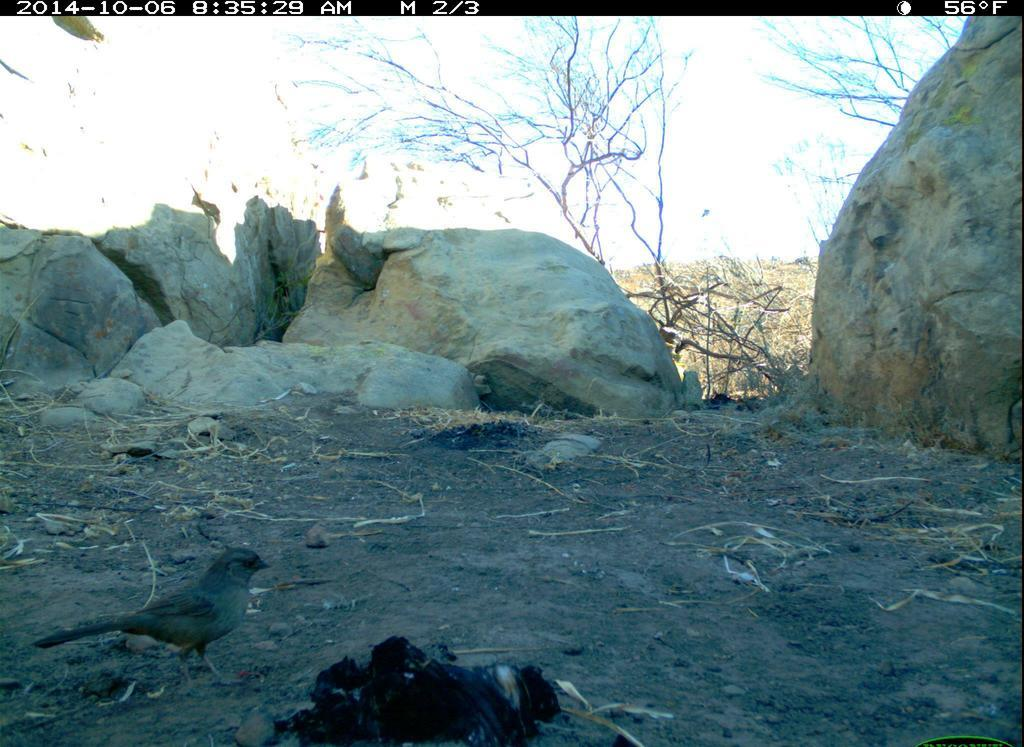bird: (36, 534, 276, 694)
